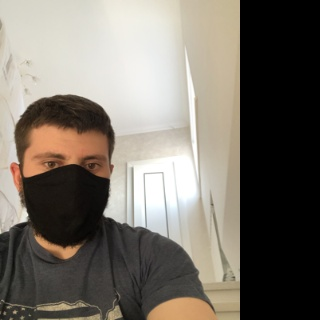with_mask: (21, 141, 112, 248)
